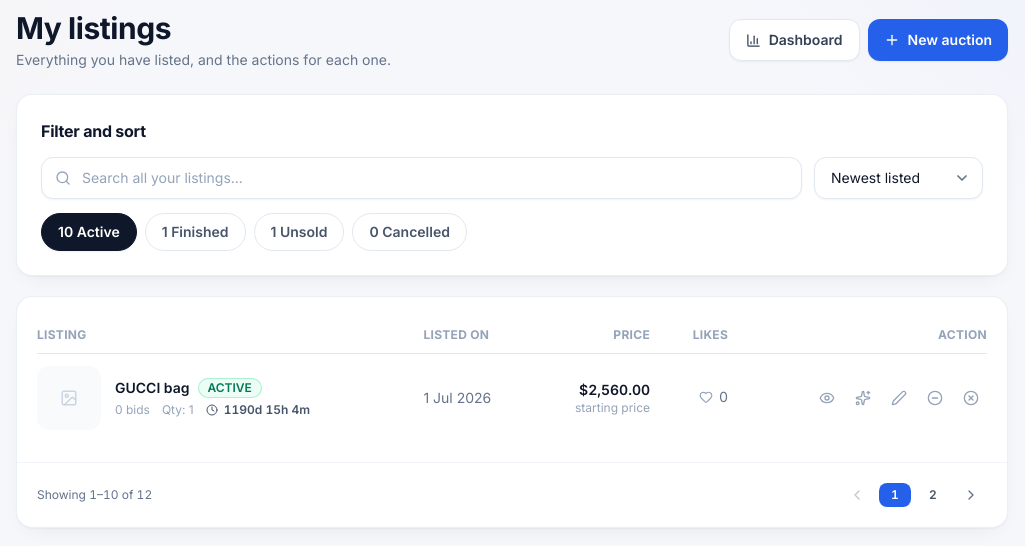
Test: pagination › offers a page 2, so the 11th and 12th listings are reachable
Click the button named "next page" at (971, 495), box [955,479,987,511]
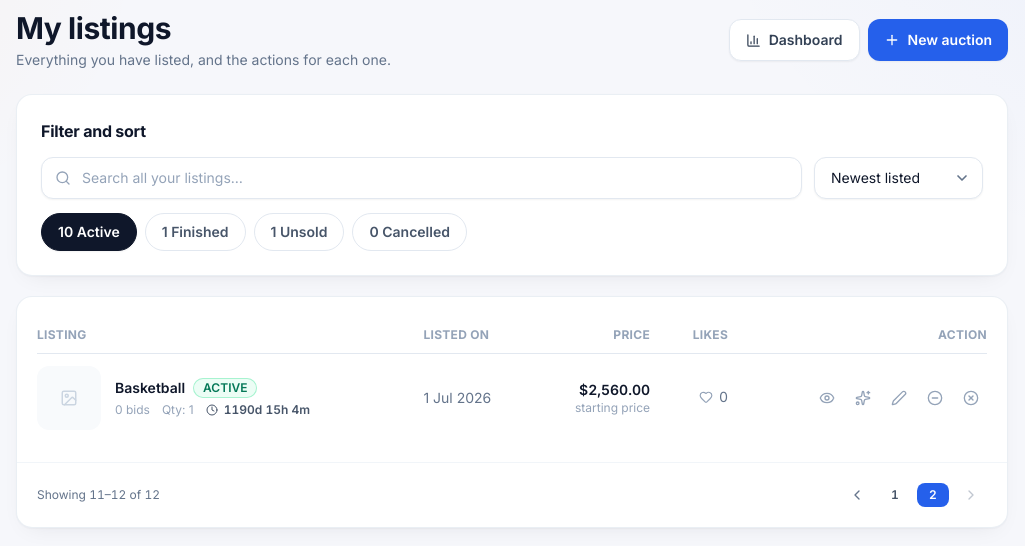
Expected: the link "Basketball" is shown, [115,378,185,398]
